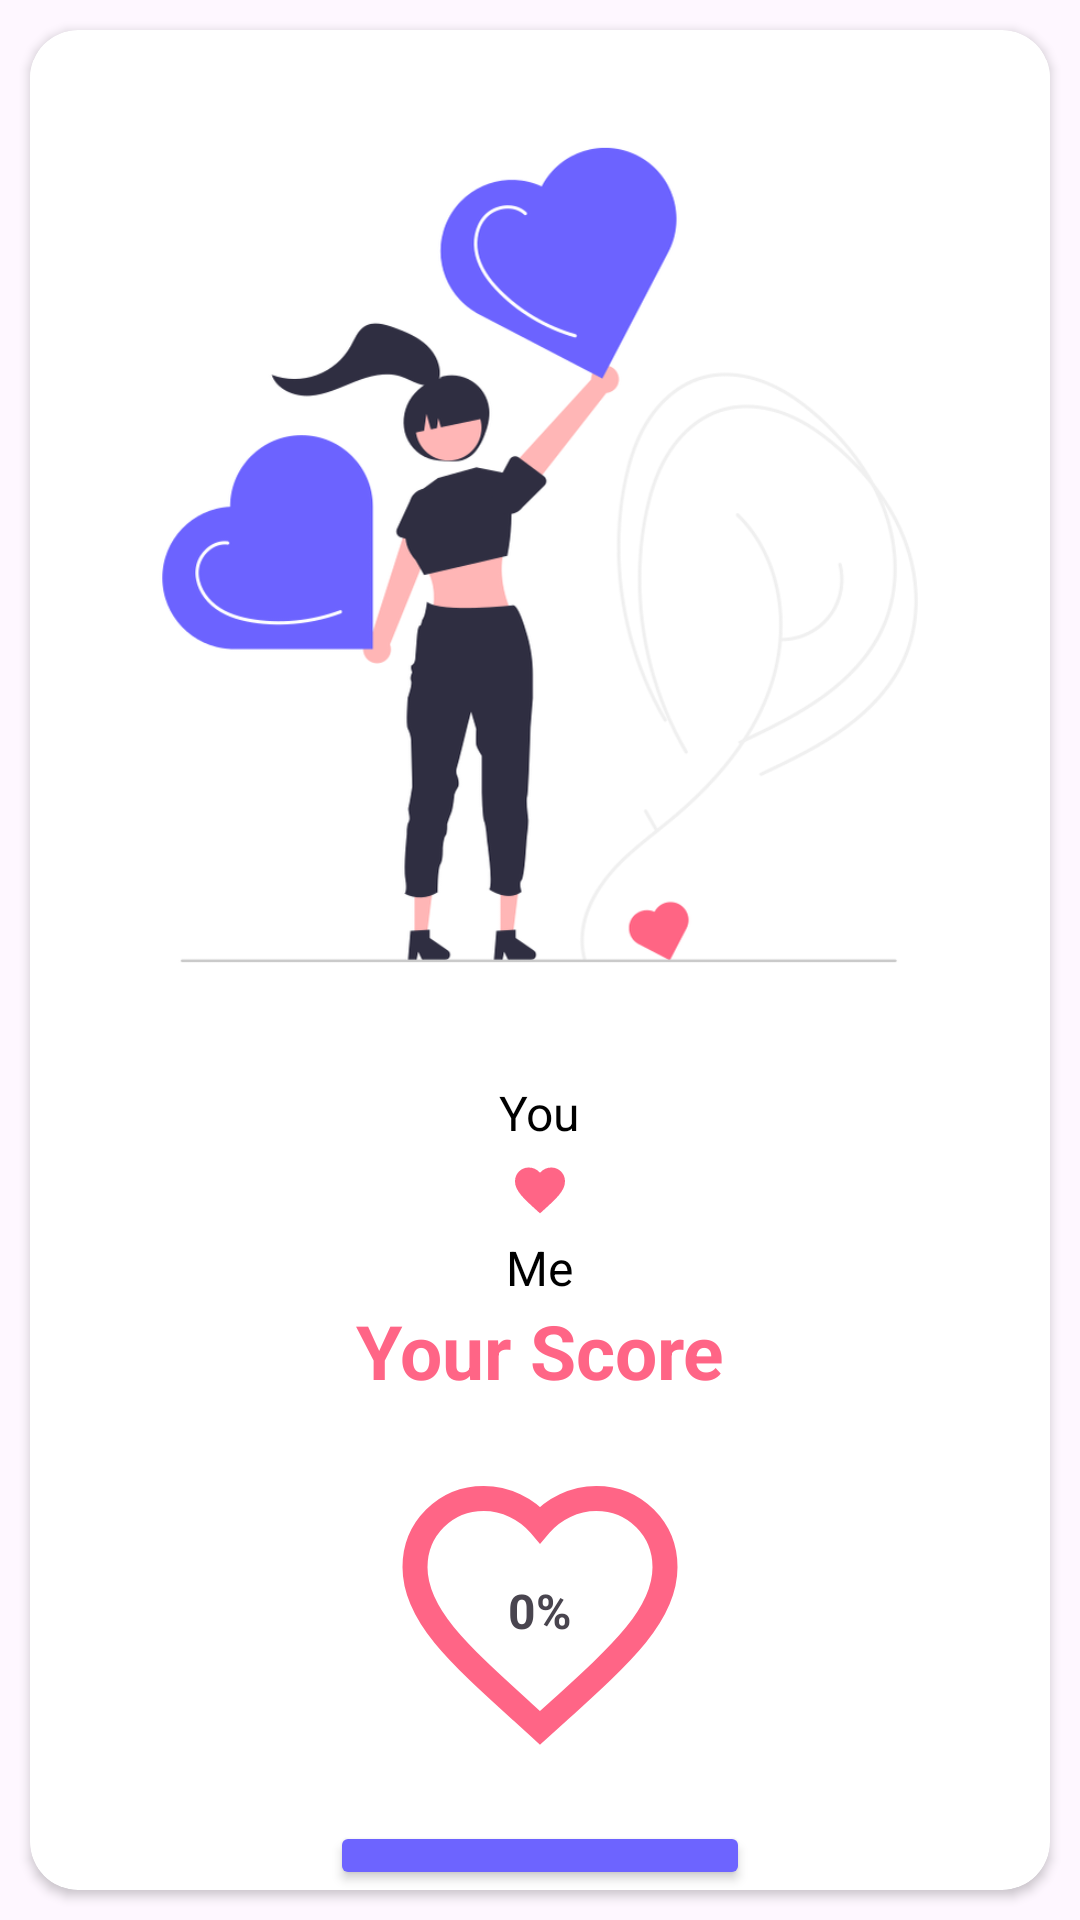

Point at icon controls on the screen. Image size 1080*1920, points as (x,y).
item heart: (540,1190), (540,1615)
